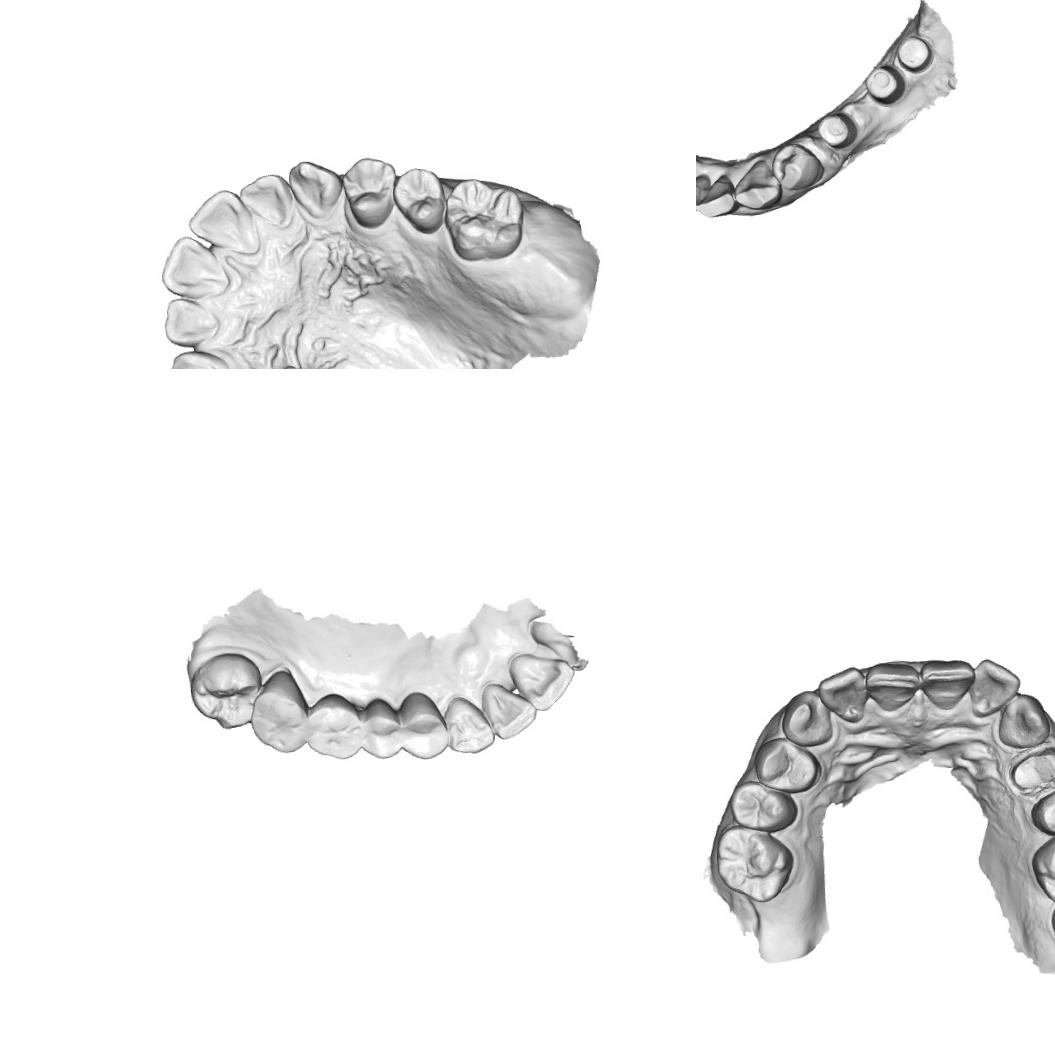abutment: (862, 62, 907, 106), (814, 109, 859, 150), (894, 32, 935, 74)
canine: (776, 687, 838, 749), (286, 157, 344, 220), (992, 690, 1052, 750), (442, 694, 495, 756), (730, 157, 784, 211), (165, 348, 232, 369)
crown: (1005, 744, 1055, 793)
incisor: (185, 187, 260, 258), (156, 232, 232, 301), (507, 650, 576, 712), (966, 654, 1025, 719), (478, 678, 538, 741), (236, 172, 296, 234), (814, 664, 872, 725), (860, 658, 923, 714), (916, 654, 976, 712), (162, 296, 220, 348), (696, 172, 735, 218), (696, 175, 710, 216)
molar: (442, 175, 528, 265), (712, 822, 796, 905), (186, 648, 263, 732), (247, 666, 310, 756), (303, 690, 366, 762), (1027, 827, 1055, 906)
premolar: (339, 154, 399, 232), (725, 776, 800, 834), (753, 735, 822, 796), (390, 164, 447, 235), (396, 688, 449, 761), (768, 140, 824, 192), (360, 696, 402, 761), (1027, 782, 1055, 838)
